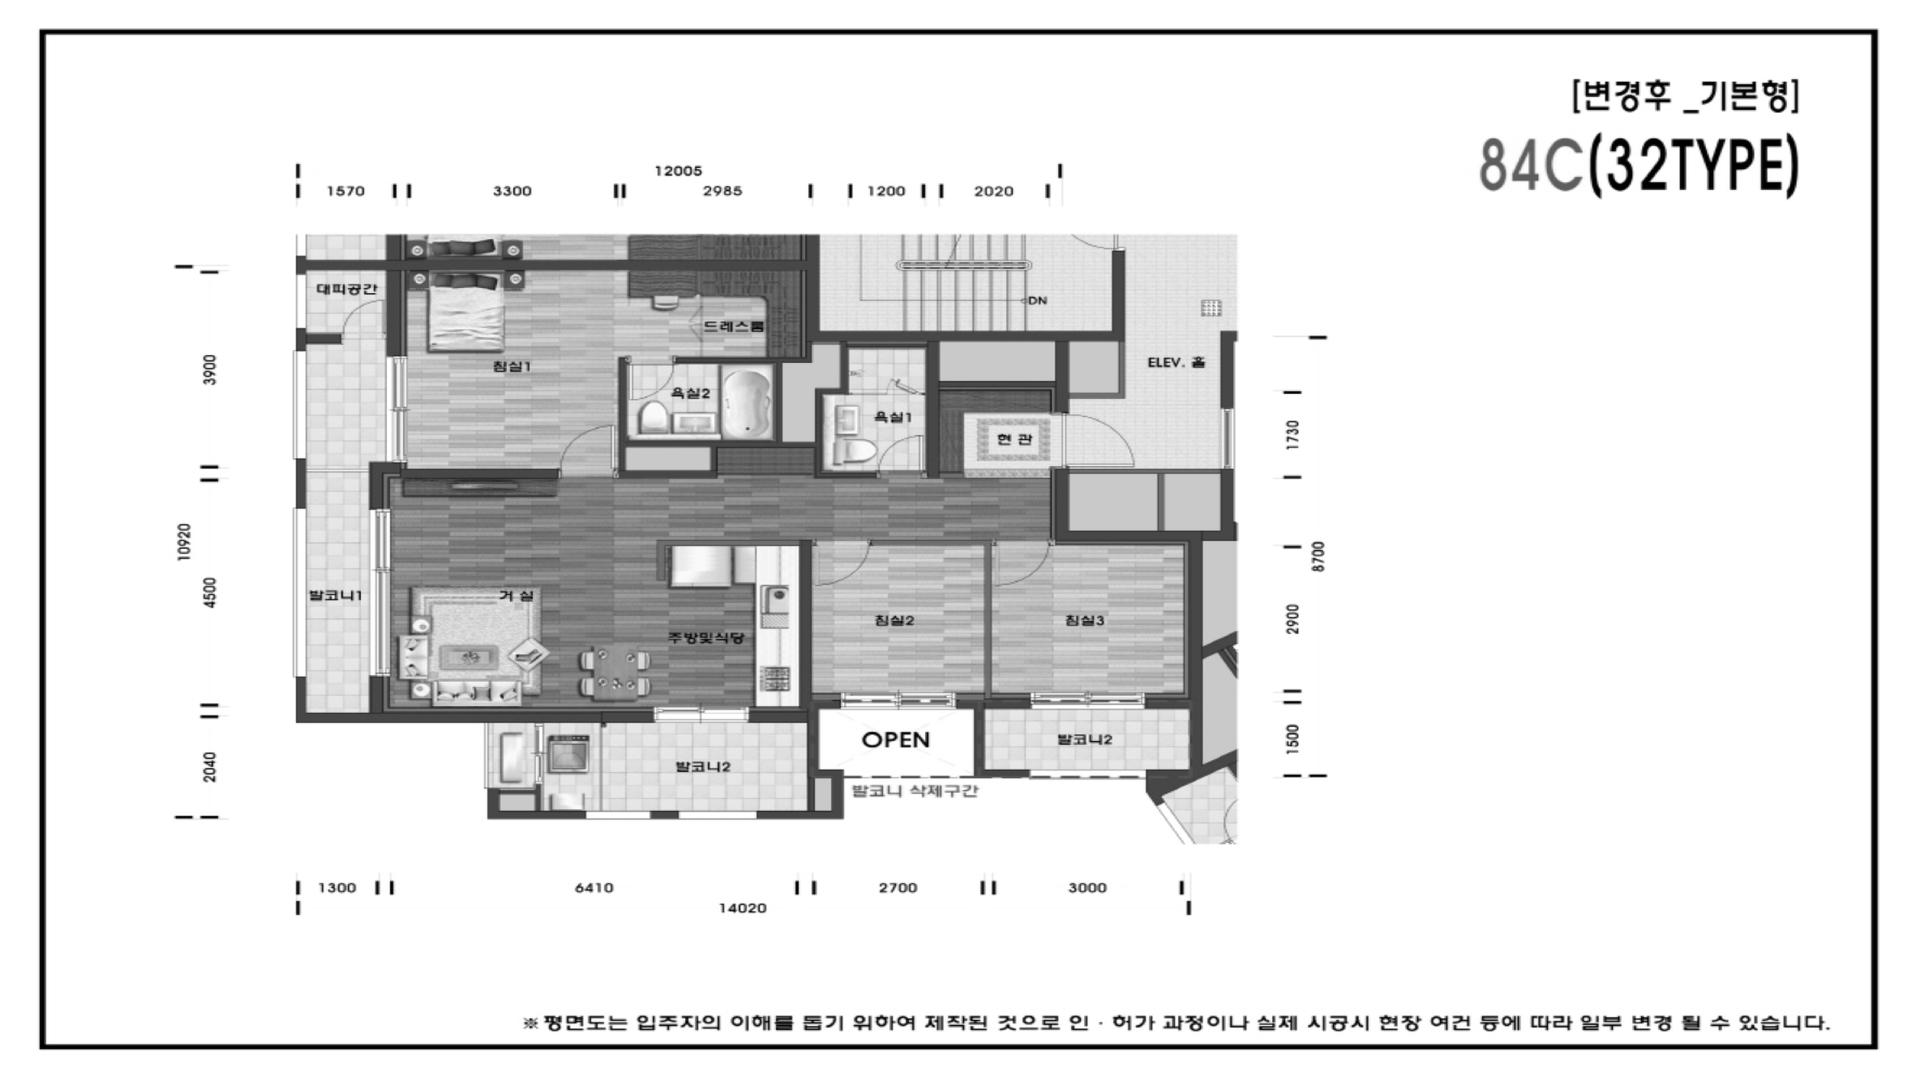door: (1062, 411, 1134, 469), (558, 425, 620, 479), (992, 539, 1056, 587), (811, 539, 870, 587), (876, 434, 928, 479), (626, 356, 676, 401), (342, 299, 388, 339), (886, 378, 922, 394)
wall: (306, 260, 806, 269), (1146, 750, 1237, 800), (1188, 541, 1203, 770), (806, 331, 1112, 342), (306, 712, 601, 723), (800, 541, 811, 700), (928, 342, 940, 479), (1056, 531, 1221, 541), (369, 463, 401, 509), (401, 469, 558, 479), (620, 440, 815, 447), (386, 269, 401, 356), (984, 546, 992, 699), (1221, 331, 1237, 407), (1112, 251, 1125, 340), (806, 260, 820, 331), (1203, 632, 1237, 659), (1221, 469, 1234, 541), (1055, 340, 1068, 411), (1055, 469, 1069, 531), (676, 357, 806, 364), (807, 708, 819, 778), (870, 539, 992, 546), (620, 471, 717, 479), (655, 541, 800, 546), (973, 708, 985, 770), (757, 811, 844, 819), (498, 811, 585, 819), (1217, 646, 1238, 678), (620, 357, 628, 440), (601, 711, 654, 723), (749, 712, 807, 723), (1069, 469, 1221, 473), (815, 394, 822, 477), (369, 676, 384, 713), (295, 459, 306, 509), (840, 342, 849, 394), (295, 678, 306, 723), (973, 770, 1029, 778), (831, 778, 844, 811), (984, 699, 1030, 708), (777, 363, 782, 442), (1146, 699, 1189, 708), (1158, 473, 1164, 531), (1118, 340, 1125, 398), (306, 332, 342, 343), (655, 546, 666, 582), (800, 700, 840, 709), (488, 789, 498, 819), (822, 472, 876, 477), (1068, 393, 1118, 398), (651, 811, 679, 820), (295, 328, 306, 351), (956, 700, 985, 708), (808, 778, 815, 811), (848, 344, 928, 347), (818, 770, 844, 778), (940, 472, 964, 479), (711, 447, 717, 471), (535, 785, 541, 811), (815, 389, 841, 394), (297, 260, 306, 274), (620, 447, 625, 471), (806, 342, 811, 363), (498, 791, 535, 794), (849, 393, 886, 394), (922, 393, 928, 394)
window: (369, 509, 390, 676), (386, 356, 407, 463), (293, 509, 306, 678), (840, 692, 956, 709), (1030, 692, 1146, 709), (654, 707, 749, 723), (293, 351, 306, 459), (1029, 770, 1146, 779), (1221, 407, 1233, 469), (679, 811, 757, 819), (585, 811, 651, 820), (534, 723, 543, 785), (295, 274, 306, 328), (484, 723, 488, 789)
